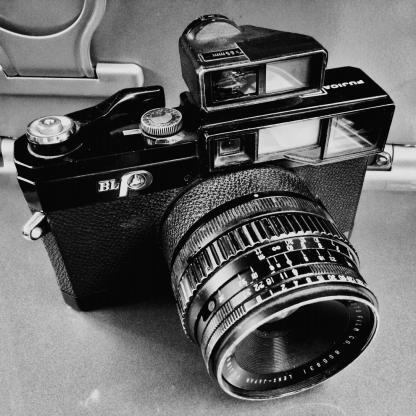Camera: (1, 17, 416, 405)
